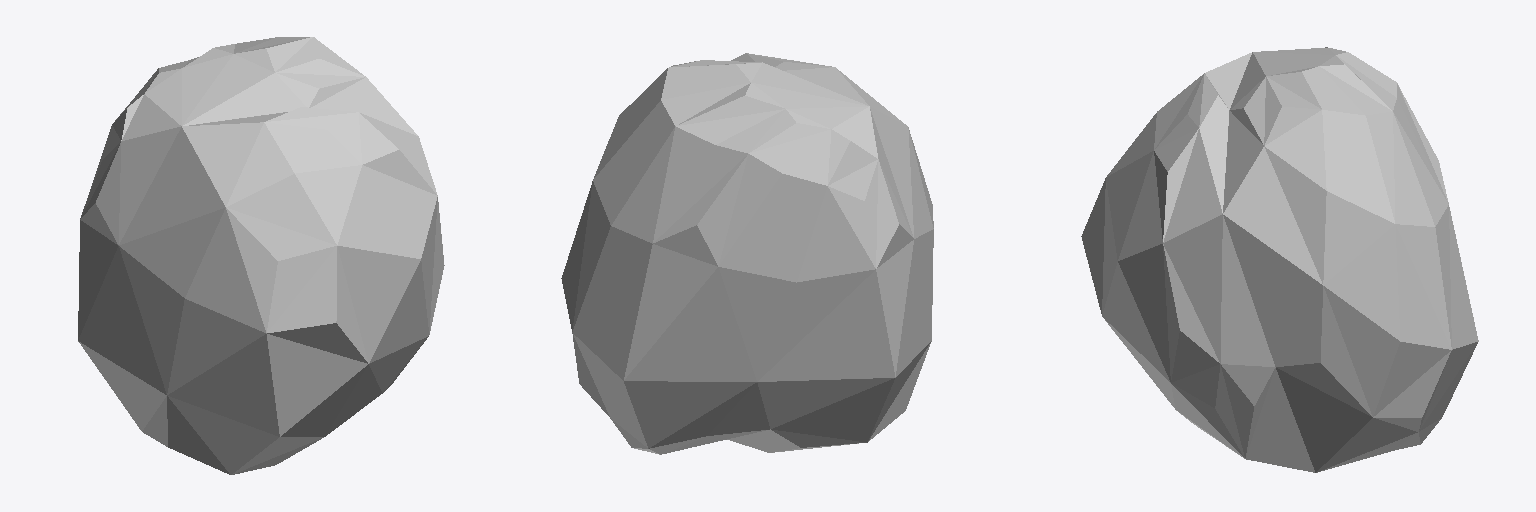
File: myboulder.obj
The picture shows the model from 3 angles: view 1: azimuth 30°, elevation 25°; view 2: azimuth 150°, elevation 25°; view 3: azimuth 270°, elevation 25°; orthographic projection.
Parts seen in each view (by area): view 1: pSphere1; view 2: pSphere1; view 3: pSphere1.
Boxes of the visible parts, box(x1,y1,x2,y2) form: pSphere1: box(78, 37, 444, 474); pSphere1: box(561, 53, 933, 454); pSphere1: box(1081, 47, 1478, 472).
Size of the model in its own units: 10.08 by 12.27 by 11.36.